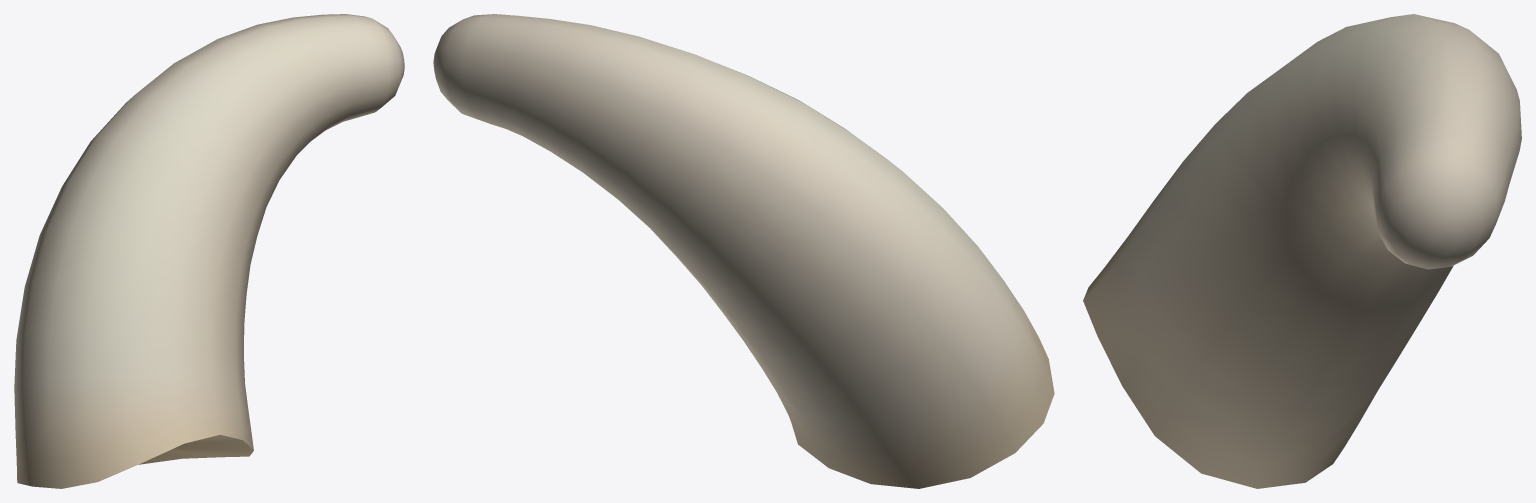
The model's file is Hippo_Tusk.glb.
3 renders of one model, left to right at view 1: azimuth 30°, elevation 25°; view 2: azimuth 150°, elevation 25°; view 3: azimuth 270°, elevation 25°, orthographic. The views are drawn at different scales.
Visible parts, largest first — view 1: Hippo_Tusk; view 2: Hippo_Tusk; view 3: Hippo_Tusk.
Part boxes in pixels (x1,y1,x2,y2): Hippo_Tusk: [14, 14, 404, 488]; Hippo_Tusk: [433, 14, 1054, 488]; Hippo_Tusk: [1083, 14, 1521, 488].
Size of the model in its own units: 1 by 0.7895 by 0.5994.
